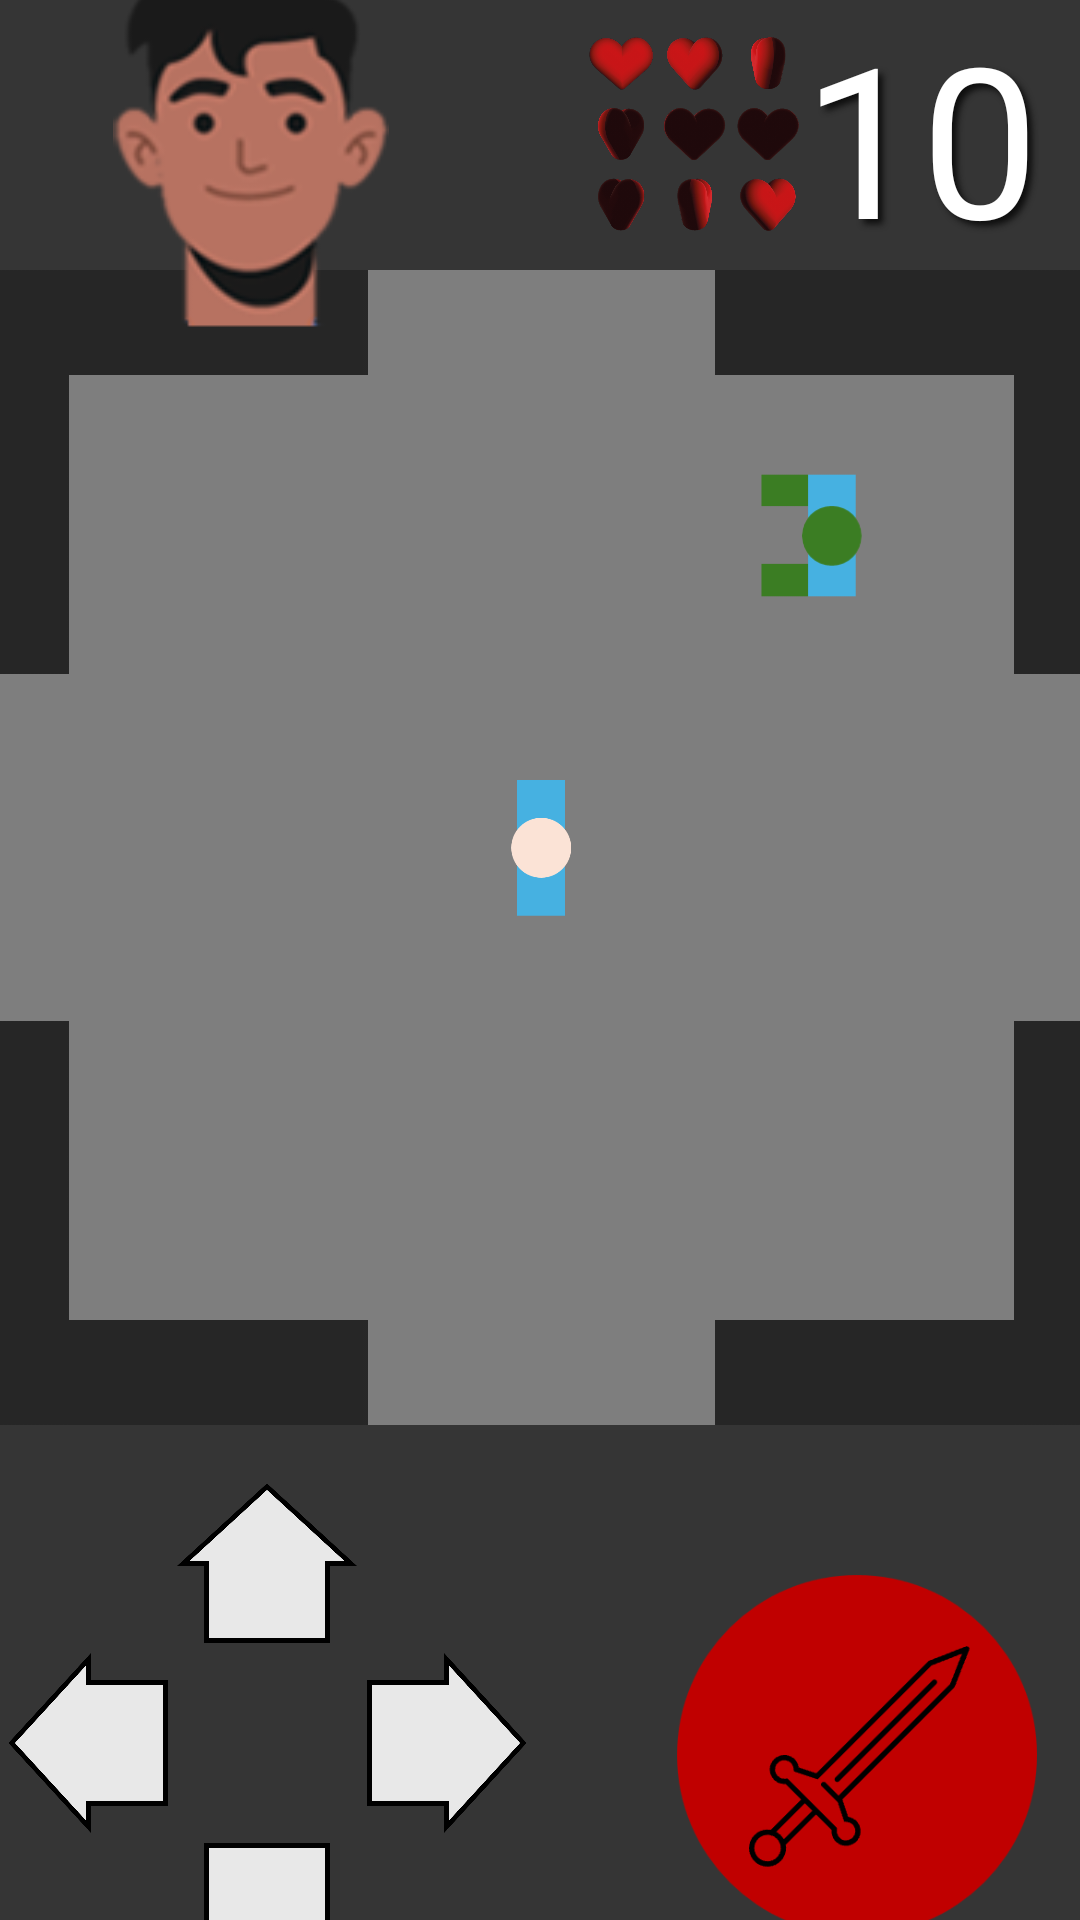

Icons on this 1080×1920 Android screen, each with the point to tap as [x,y]:
attaque: [857,1747]
coeur: [694,134]
